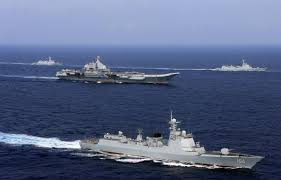tau_muctieu: (85, 121, 260, 171), (60, 60, 178, 86), (214, 59, 265, 74)
